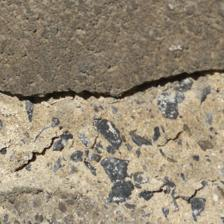Crack: (3, 67, 223, 106)
